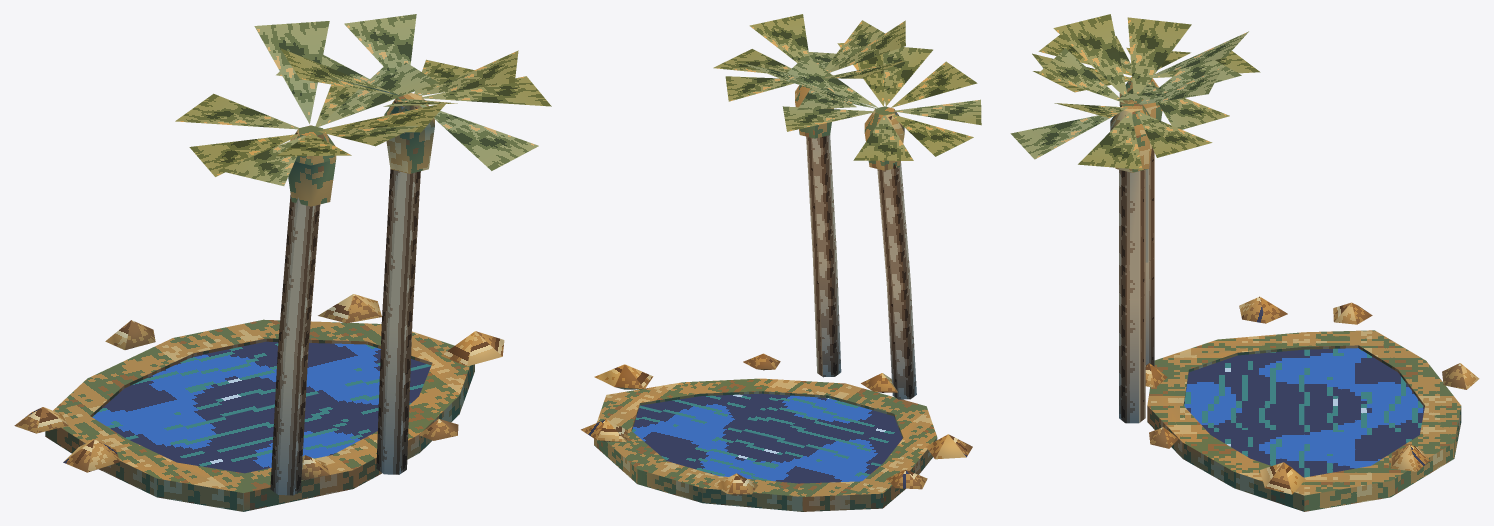
File: wland.oasis.glb
The picture shows the model from 3 angles, left to right: view 1: azimuth 30°, elevation 25°; view 2: azimuth 150°, elevation 25°; view 3: azimuth 270°, elevation 25°; orthographic projection. The views are drawn at different scales.
Parts seen in each view (by area): view 1: kit_card_fronds_back, kit_water, kit_bank, kit_trunks, kit_rocks, kit_skirts; view 2: kit_water, kit_card_fronds_back, kit_bank, kit_trunks, kit_rocks, kit_skirts; view 3: kit_water, kit_card_fronds_back, kit_bank, kit_trunks, kit_rocks, kit_skirts.
Boxes of the visible parts, x1,y1,x2,y2 form: kit_card_fronds_back: (175,14,551,185); kit_water: (92,341,431,473); kit_bank: (45,319,474,511); kit_trunks: (270,100,420,495); kit_rocks: (14,294,504,480); kit_skirts: (288,93,434,206); kit_water: (632,393,902,483); kit_card_fronds_back: (713,14,981,160); kit_bank: (594,378,937,511); kit_trunks: (806,112,916,399); kit_rocks: (581,353,972,495); kit_skirts: (795,85,904,170); kit_water: (1184,348,1424,477); kit_card_fronds_back: (1010,14,1260,169); kit_bank: (1147,330,1461,511); kit_trunks: (1119,81,1154,423); kit_rocks: (1145,296,1479,494); kit_skirts: (1110,77,1162,172).
Size of the model in its own units: 7.58 by 7.03 by 7.77.
Materials: 6 (6 with a texture image).
